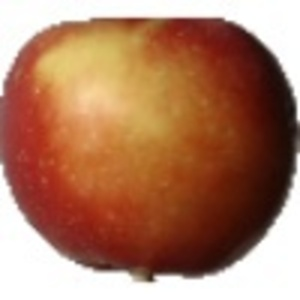maçã braeburn: (1, 14, 299, 278)
